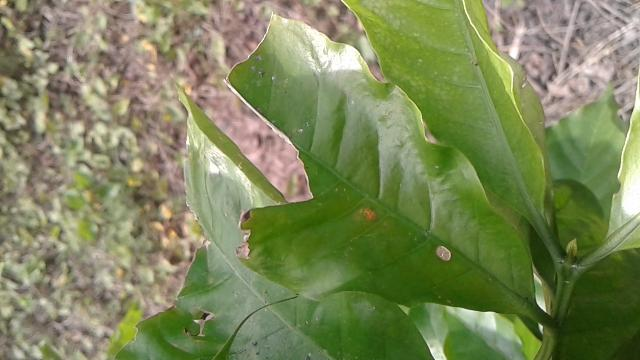rust_level_1: (222, 19, 533, 312)
